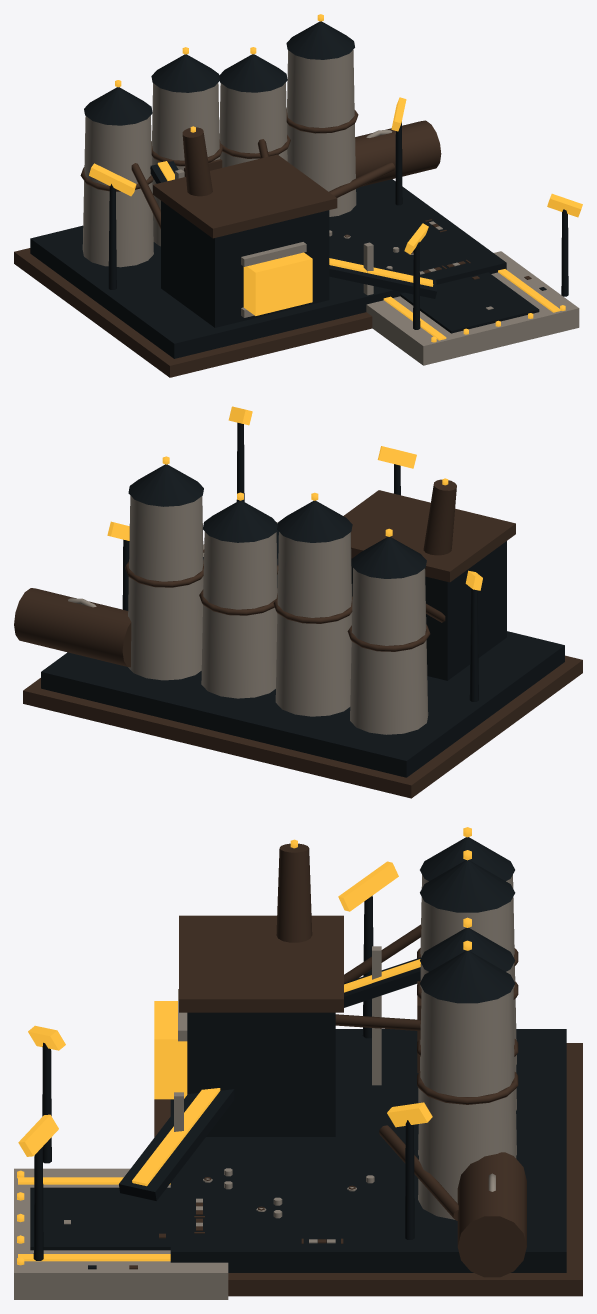
The model's file is refinery-bathyarch.glb.
The picture shows the model from 3 angles, top to bottom: view 1: azimuth 30°, elevation 25°; view 2: azimuth 150°, elevation 25°; view 3: azimuth 270°, elevation 25°; orthographic projection. The views are drawn at different scales.
Visible parts, largest first — view 1: platform, crusher_hall, crusher_roof, silo_4, silo_1, apron, platform_skirt, apron_pad, silo_3, silo_2, crusher_intake, ballast (+19 smaller); view 2: platform, silo_2, silo_4, platform_skirt, silo_1, silo_3, crusher_roof, crusher_hall, ballast, silo_cap_4, silo_cap_2, silo_cap_1 (+9 smaller); view 3: platform, crusher_hall, silo_4, crusher_roof, platform_skirt, apron, apron_pad, ballast, conveyor_apron, silo_cap_4, silo_cap_2, crusher_stack (+22 smaller).
Boxes of the visible parts, box(x1,y1,x2,y2) form: platform: box(30, 179, 506, 358); crusher_hall: box(161, 201, 329, 327); crusher_roof: box(153, 154, 337, 238); silo_4: box(287, 50, 356, 216); silo_1: box(82, 115, 153, 267); apron: box(366, 251, 579, 365); platform_skirt: box(14, 248, 372, 377); apron_pad: box(400, 272, 539, 333); silo_3: box(219, 82, 287, 167); silo_2: box(151, 83, 219, 246); crusher_intake: box(243, 252, 312, 315); ballast: box(355, 120, 441, 186); platform: box(41, 557, 564, 777); silo_2: box(275, 532, 352, 716); silo_4: box(128, 495, 203, 680); platform_skirt: box(23, 655, 582, 798); silo_1: box(350, 568, 428, 734); silo_3: box(201, 531, 277, 698); crusher_roof: box(343, 490, 515, 582); crusher_hall: box(351, 541, 506, 680); ballast: box(14, 588, 131, 667); silo_cap_4: box(128, 464, 203, 506); silo_cap_2: box(277, 500, 352, 542); silo_cap_1: box(351, 536, 426, 578); platform: box(170, 1029, 566, 1272); crusher_hall: box(187, 1012, 335, 1136); silo_4: box(418, 988, 516, 1219); crusher_roof: box(179, 915, 343, 1012); platform_skirt: box(154, 1043, 582, 1296); apron: box(14, 1168, 228, 1299); apron_pad: box(30, 1187, 170, 1250); ballast: box(457, 1152, 526, 1277); conveyor_apron: box(119, 1089, 234, 1200); silo_cap_4: box(420, 950, 515, 1003); silo_cap_2: box(420, 860, 515, 912); crusher_stack: box(276, 843, 312, 942).
Bounding box in the file's own units: 280 × 151 × 263.
